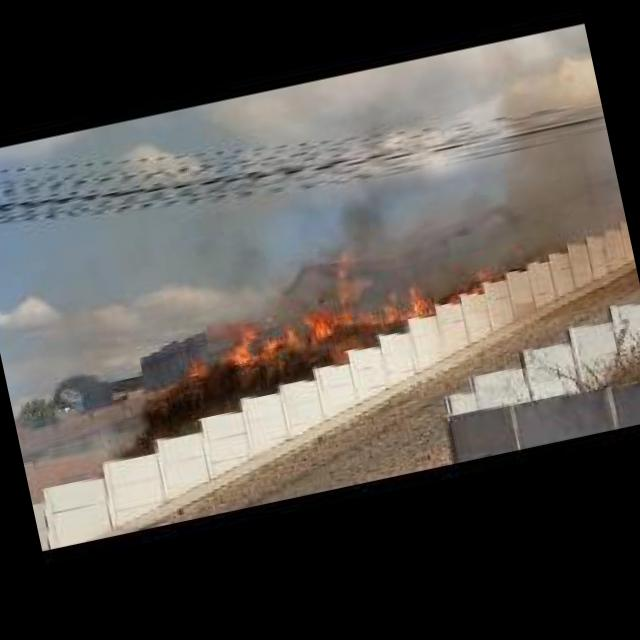fire: (220, 228, 433, 364), (442, 267, 503, 299), (181, 354, 202, 375)
